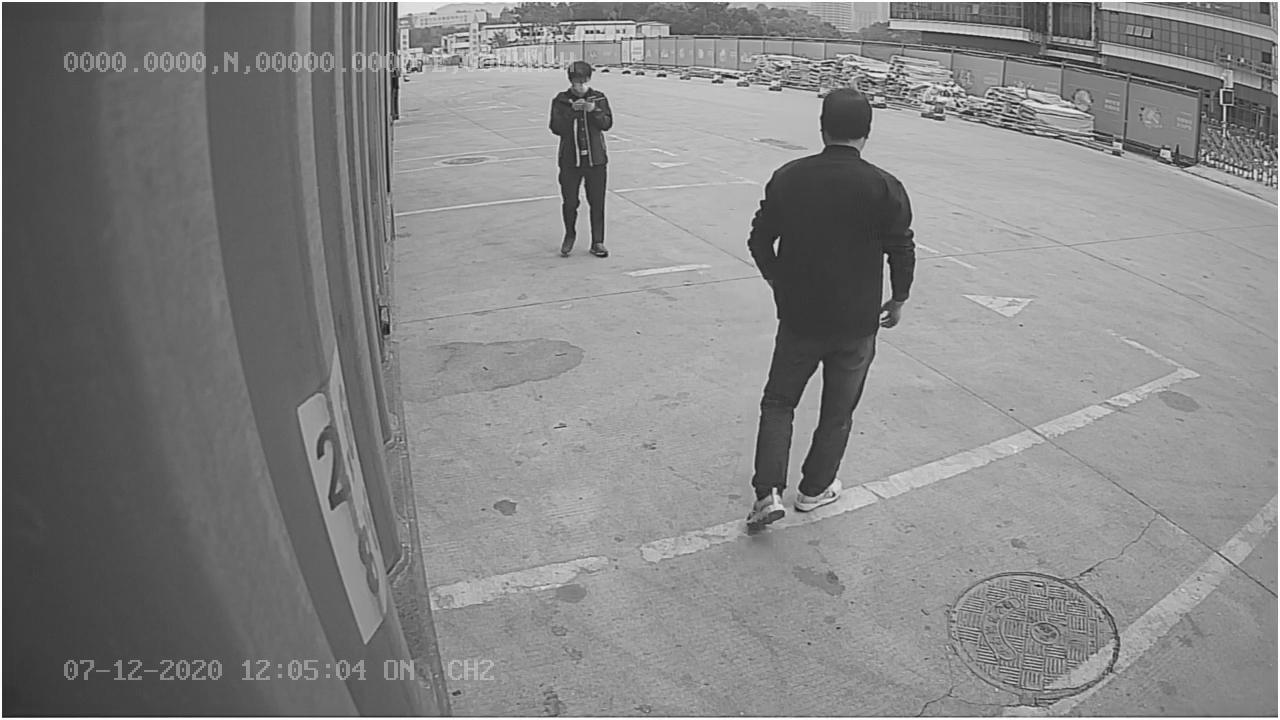person: (739, 83, 918, 539)
